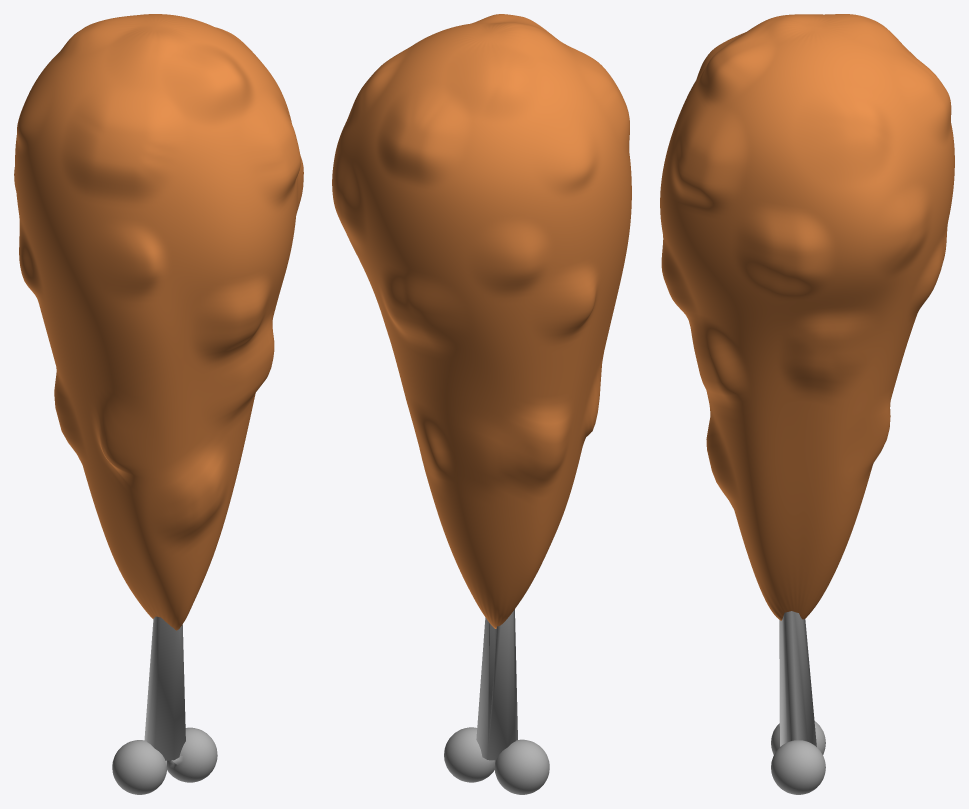
The model's file is Drumstick.fbx.
3 renders of one model, left to right at view 1: azimuth 30°, elevation 25°; view 2: azimuth 150°, elevation 25°; view 3: azimuth 270°, elevation 25°, orthographic.
Visible parts, largest first — view 1: Chicken, Drumstick; view 2: Chicken, Drumstick; view 3: Chicken, Drumstick.
Boxes of the visible parts, <box> form: Chicken: <box>14,14,303,630</box>; Drumstick: <box>112,616,217,794</box>; Chicken: <box>332,14,631,628</box>; Drumstick: <box>444,609,549,794</box>; Chicken: <box>660,14,954,620</box>; Drumstick: <box>771,611,825,794</box>.
Bounding box in the file's own units: 64.07 × 179 × 63.51.
